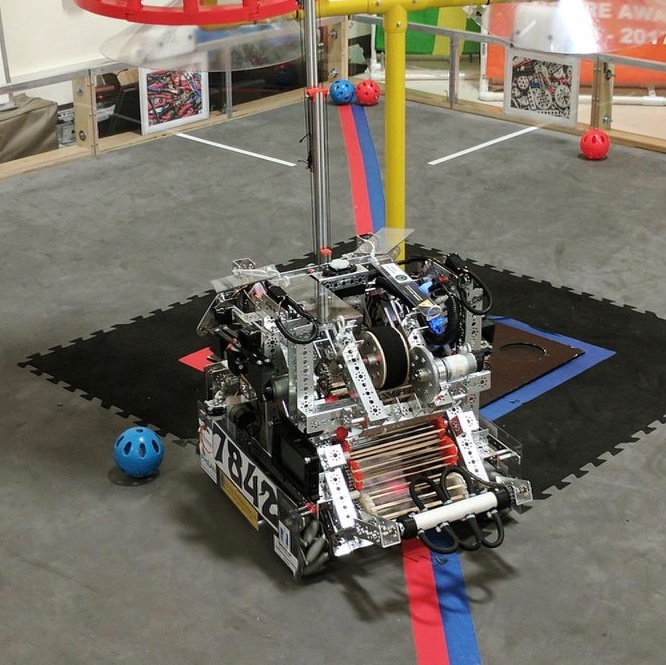ball: (108, 423, 169, 484), (575, 126, 614, 163), (329, 78, 357, 108), (355, 78, 383, 106)
robot: (190, 225, 539, 585)
